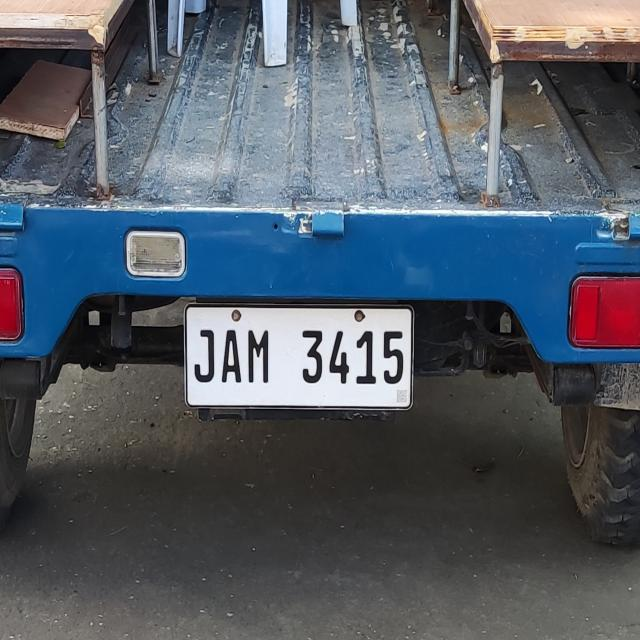LicensePlate: (181, 298, 420, 411)
